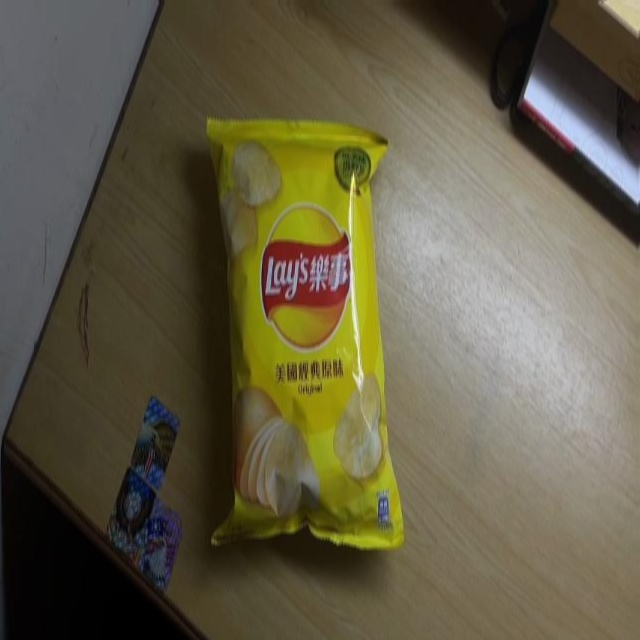Lay-s-original: (203, 111, 409, 552)
